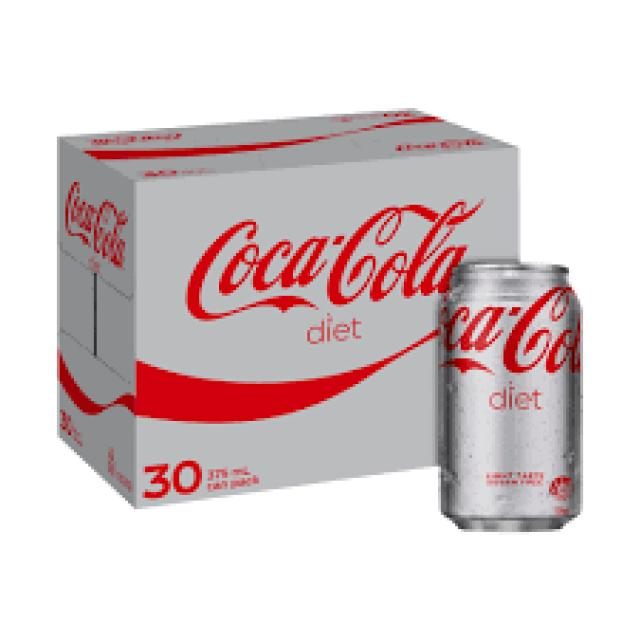Cans: (438, 247, 592, 544)
